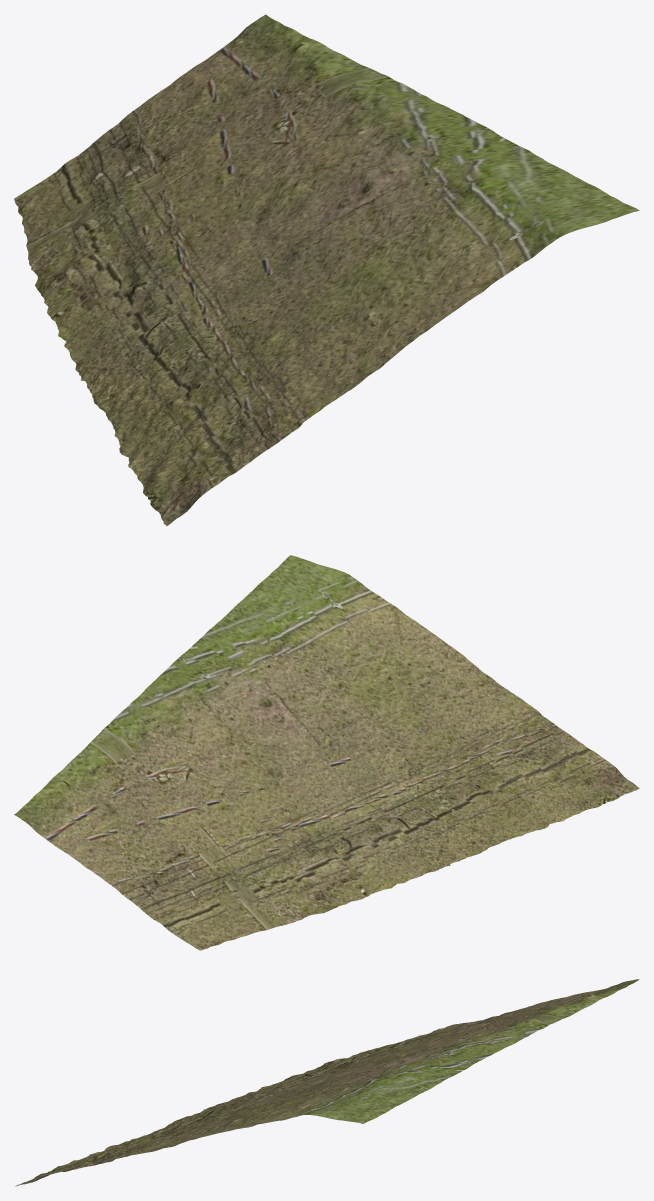
3 views of the same model, one above another, from view 1: azimuth 30°, elevation 25°; view 2: azimuth 150°, elevation 25°; view 3: azimuth 330°, elevation 25° (orthographic). The views are drawn at different scales.
Bounding box in the file's own units: 3.69 × 1.49 × 5.05.
Materials: 2 (2 with a texture image).
